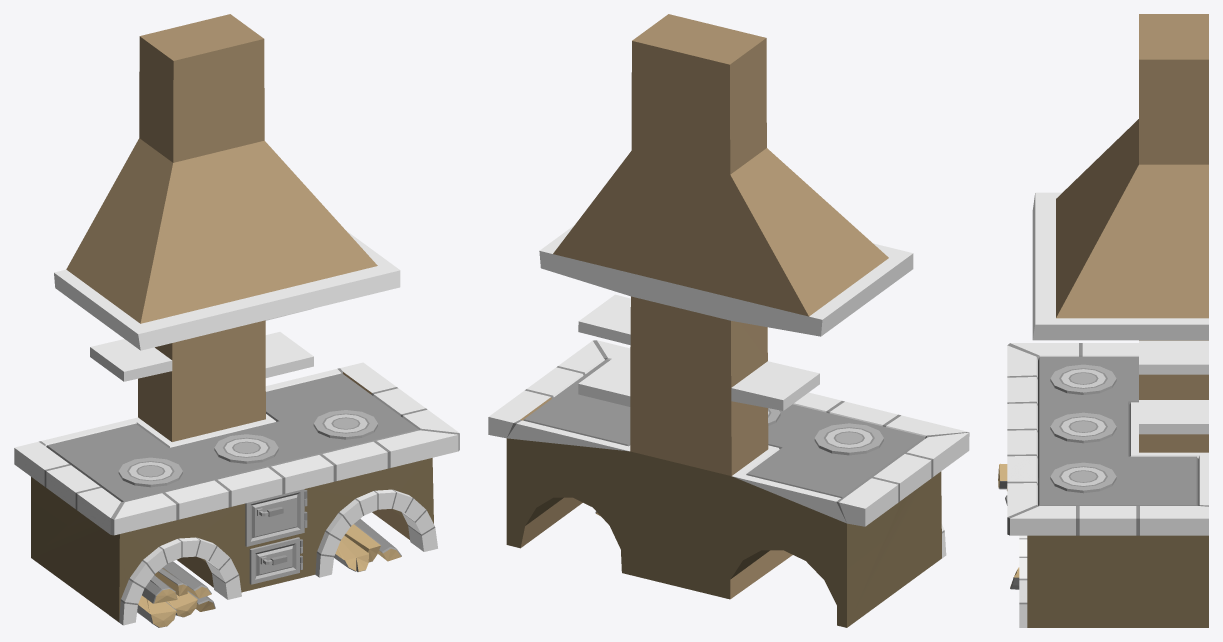
Rendered from PT_Stove_01.fbx.
The picture shows the model from 3 angles, left to right: view 1: azimuth 30°, elevation 25°; view 2: azimuth 150°, elevation 25°; view 3: azimuth 270°, elevation 25°; orthographic projection. The views are drawn at different scales.
Visible parts, largest first — view 1: PT_Stove_01_body, PT_Stove_01_logs, PT_Stove_01_door1, PT_Stove_01_door2, PT_Stove_01_disk3, PT_Stove_01_disk1, PT_Stove_01_disk2; view 2: PT_Stove_01_body, PT_Stove_01_disk2; view 3: PT_Stove_01_body, PT_Stove_01_disk1, PT_Stove_01_disk3, PT_Stove_01_disk2, PT_Stove_01_logs.
Boxes of the visible parts, x1,y1,x2,y2 form: PT_Stove_01_body: (14,14,459,625); PT_Stove_01_logs: (137,518,401,627); PT_Stove_01_door1: (245,489,307,546); PT_Stove_01_door2: (249,537,302,584); PT_Stove_01_disk3: (313,410,377,439); PT_Stove_01_disk1: (214,434,278,463); PT_Stove_01_disk2: (118,457,182,487); PT_Stove_01_body: (488,14,969,627); PT_Stove_01_disk2: (814,423,883,455); PT_Stove_01_body: (1007,14,1208,627); PT_Stove_01_disk1: (1050,412,1116,443); PT_Stove_01_disk3: (1050,462,1116,493); PT_Stove_01_disk2: (1050,364,1116,394); PT_Stove_01_logs: (998,463,1019,589).
Size of the model in its own units: 220 by 301 by 112.
Materials: 1 (1 with a texture image).
